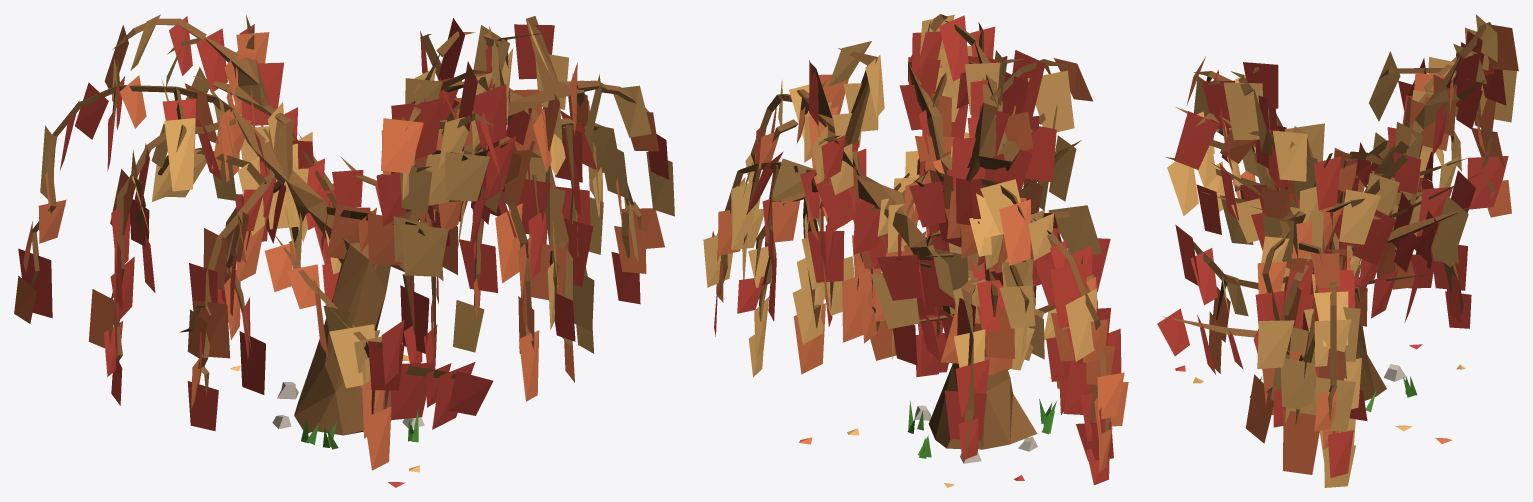
File: cherry_weeping_autumn.glb
3 renders of one model, left to right at view 1: azimuth 30°, elevation 25°; view 2: azimuth 150°, elevation 25°; view 3: azimuth 270°, elevation 25°, orthographic. The views are drawn at different scales.
Parts seen in each view (by area): view 1: cherry_weeping_autumn; view 2: cherry_weeping_autumn; view 3: cherry_weeping_autumn.
Boxes of the visible parts, x1,y1,x2,y2 form: cherry_weeping_autumn: (14, 14, 674, 487); cherry_weeping_autumn: (703, 14, 1128, 487); cherry_weeping_autumn: (1157, 14, 1518, 487).
Bounding box in the file's own units: 9.43 × 6.67 × 6.13.
